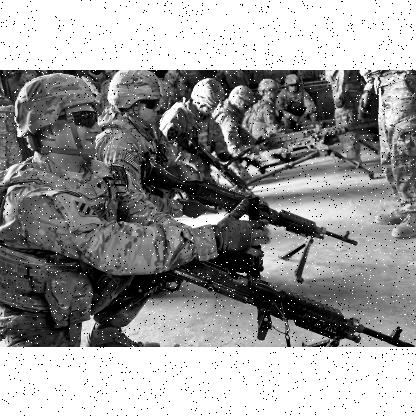gun: (138, 152, 358, 286), (123, 256, 412, 346)
